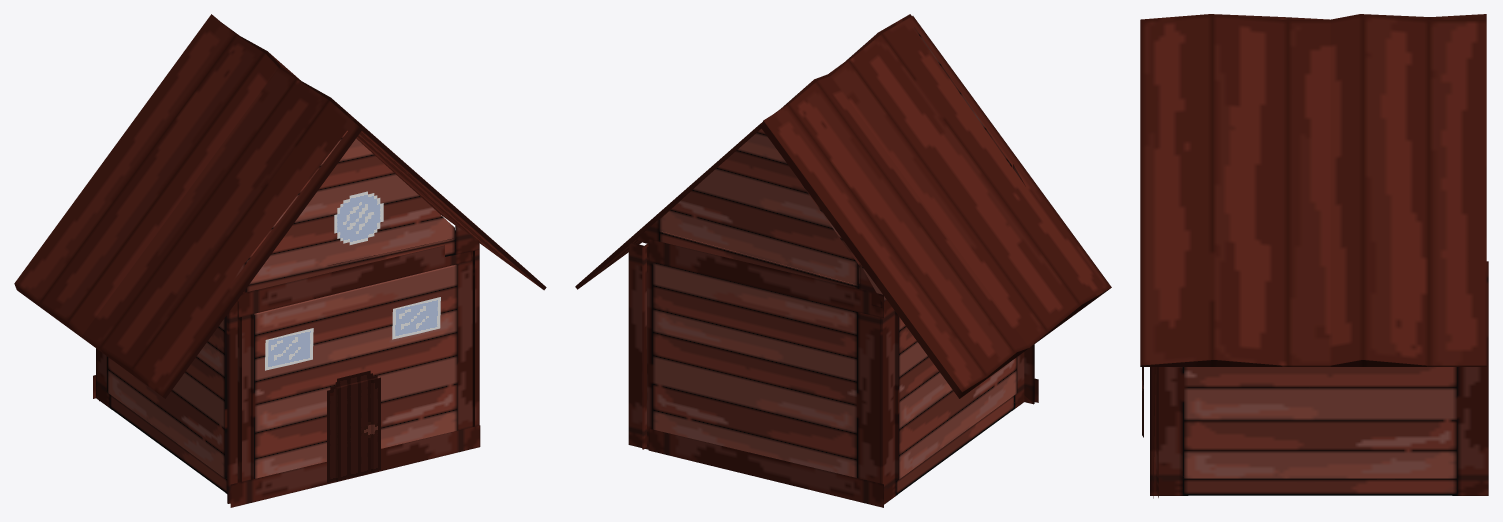
The model's file is House_Model_001_Textures.fbx.
3 views of the same model, side by side, from view 1: azimuth 30°, elevation 25°; view 2: azimuth 150°, elevation 25°; view 3: azimuth 270°, elevation 25° (orthographic). The views are drawn at different scales.
Parts seen in each view (by area): view 1: Plane.007, Plane.001, Plane.006, Plane.002, Plane.004, Plane.010, Plane.013, Plane.008, Plane.005, Plane.009, Plane; view 2: Plane.007, Plane.003, Plane.006, Plane.002, Plane.012, Plane.011, Plane.008, Plane, Plane.001; view 3: Plane.008, Plane, Plane.007, Plane.001.
Part boxes in pixels (box(x1,y1,x2,y2)): Plane.007: box(14, 14, 361, 398); Plane.001: box(226, 242, 479, 503); Plane.006: box(231, 130, 479, 292); Plane.002: box(96, 301, 241, 493); Plane.004: box(327, 370, 380, 482); Plane.010: box(238, 245, 471, 317); Plane.013: box(230, 425, 480, 507); Plane.008: box(222, 23, 546, 290); Plane.005: box(265, 297, 440, 370); Plane.009: box(334, 191, 383, 244); Plane: box(333, 230, 474, 426); Plane.007: box(760, 16, 1111, 398); Plane.003: box(628, 243, 880, 483); Plane.006: box(636, 27, 1025, 307); Plane.002: box(880, 299, 1024, 504); Plane.012: box(648, 428, 883, 507); Plane.011: box(648, 239, 883, 318); Plane.008: box(575, 14, 911, 289); Plane: box(642, 243, 648, 449); Plane.001: box(796, 176, 1034, 404); Plane.008: box(1140, 14, 1486, 366); Plane: box(1150, 261, 1488, 495); Plane.007: box(1140, 14, 1486, 19); Plane.001: box(1153, 367, 1158, 498).
Bounding box in the file's own units: 244 × 218 × 164.
Materials: 9 (9 with a texture image).
